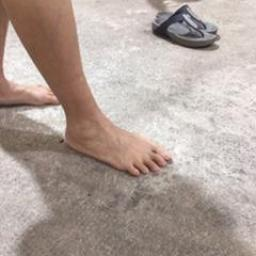Lateral View -Right Foot-: (53, 97, 175, 185)
